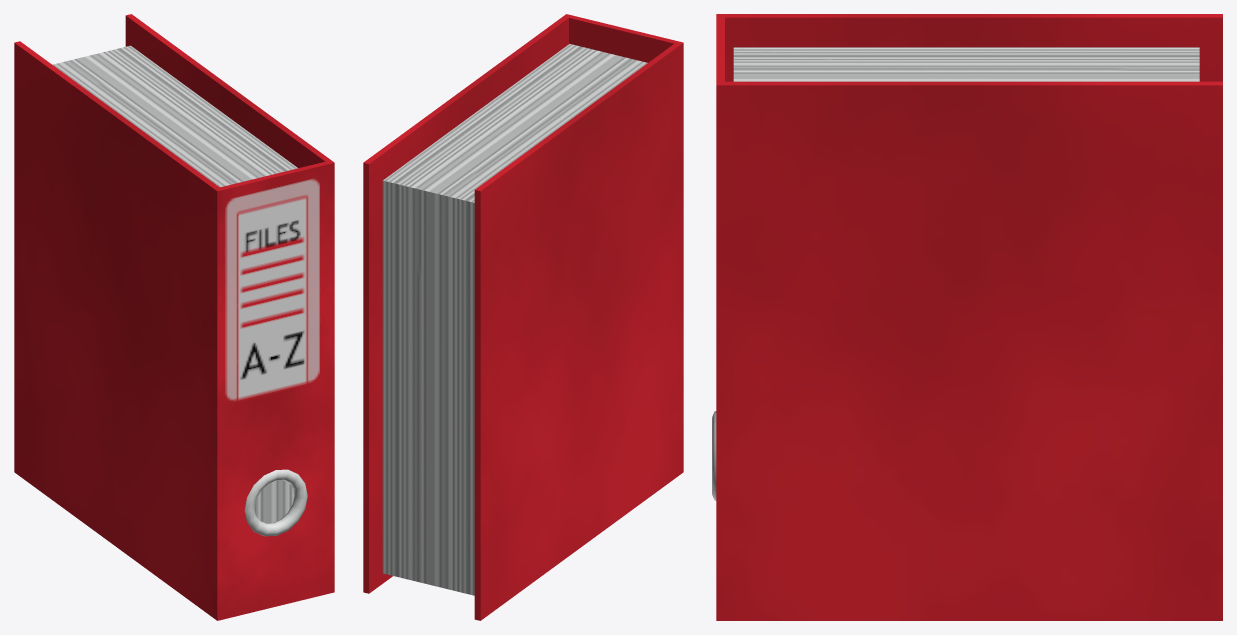
The model's file is 3D004_Office_BookRed.FBX.
3 views of the same model, side by side, from view 1: azimuth 30°, elevation 25°; view 2: azimuth 150°, elevation 25°; view 3: azimuth 270°, elevation 25° (orthographic). The views are drawn at different scales.
Visible parts, largest first — view 1: 3D004_Office_BookRed; view 2: 3D004_Office_BookRed; view 3: 3D004_Office_BookRed.
Boxes of the visible parts, <box> form: 3D004_Office_BookRed: <box>14,14,334,620</box>; 3D004_Office_BookRed: <box>363,14,683,620</box>; 3D004_Office_BookRed: <box>712,14,1222,620</box>.
Size of the model in its own units: 10 by 35 by 30.26.
